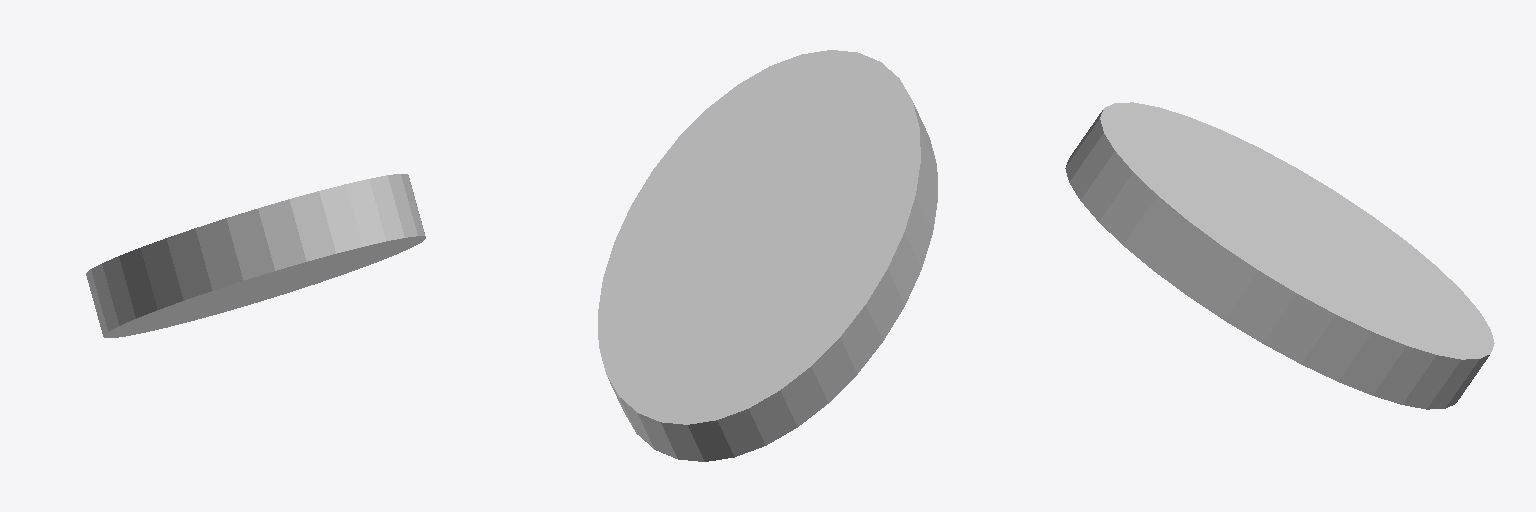
The model's file is prawe_male.obj.
The picture shows the model from 3 angles: view 1: azimuth 30°, elevation 25°; view 2: azimuth 150°, elevation 25°; view 3: azimuth 270°, elevation 25°; orthographic projection.
Visible parts, largest first — view 1: Walec.004; view 2: Walec.004; view 3: Walec.004.
Boxes of the visible parts, x1=… form: Walec.004: x1=86, y1=174, x2=425, y2=337; Walec.004: x1=598, y1=50, x2=937, y2=461; Walec.004: x1=1065, y1=102, x2=1494, y2=409.
Size of the model in its own units: 1.05 by 1.07 by 1.51.